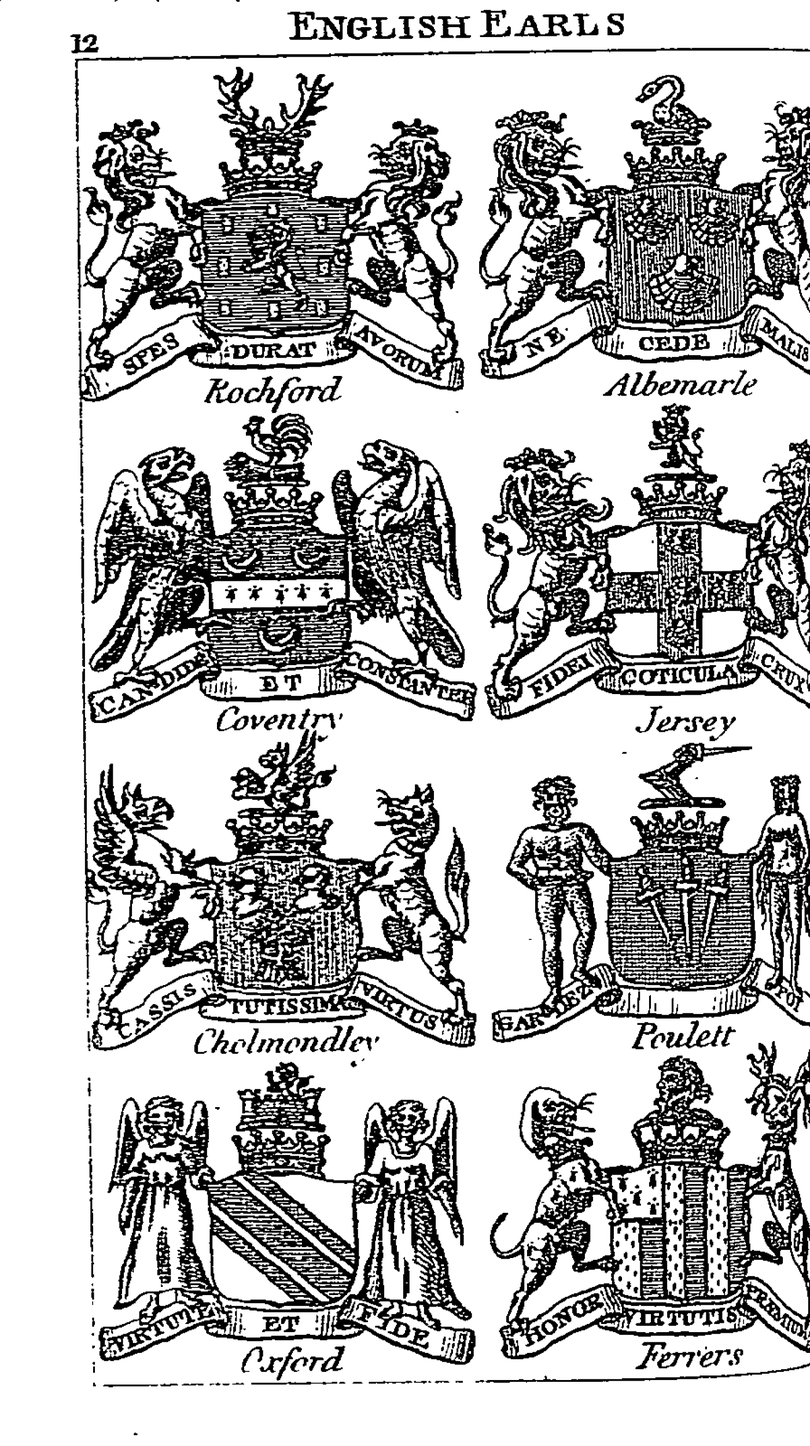coat_of_arms: (93, 733, 491, 1079), (79, 62, 465, 415), (87, 415, 485, 738), (461, 58, 810, 412), (97, 1068, 475, 1382), (478, 412, 810, 740), (482, 724, 810, 1055), (480, 1055, 810, 1374)
